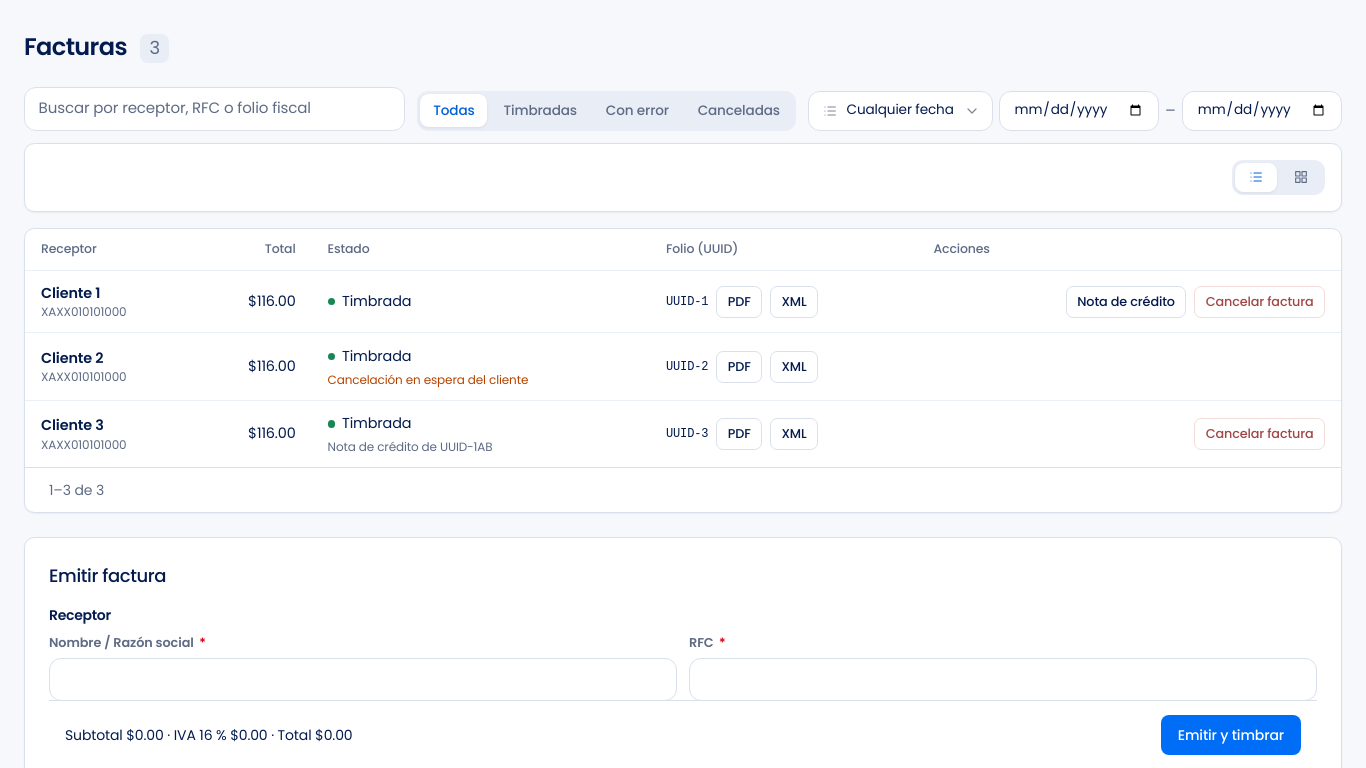
Test: cancelar, sustituir y notas de crédito (ADR 0180) › cada factura se cancela o se acredita y dice cómo va su cancelación
Expected: the text "Cancelación en espera del cliente" is shown, [328,371,528,388]
Expected: the text "Nota de crédito de UUID-1AB" is shown, [328,438,492,455]
Cancelar: se elige el motivo y, si espera al cliente, se dice.
Click the button "Cancelar factura" in the row of "Cliente 1".
click(1260, 302)  # box [1194,286,1325,318]
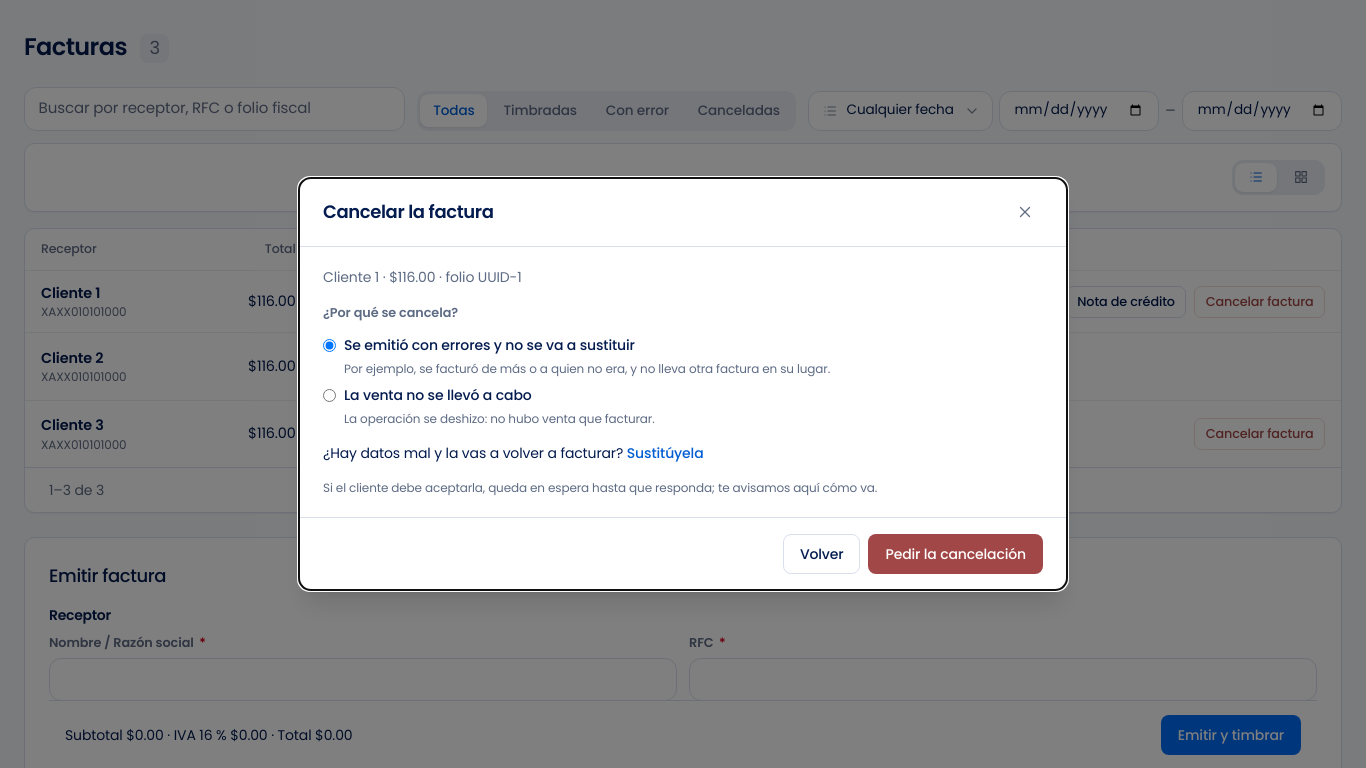
Click the 2nd radio button.
click(330, 396)  # box [323,389,336,402]
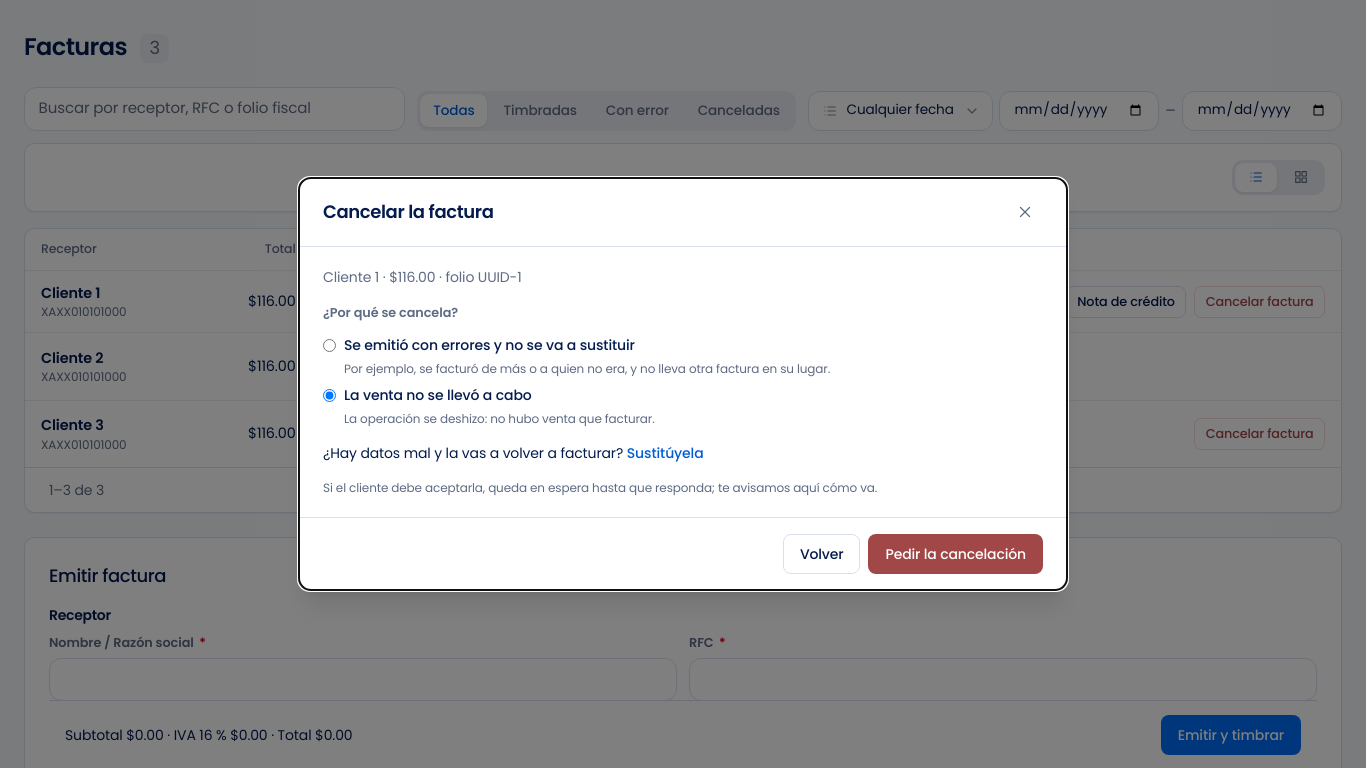
Submit the form with id "form-cancelar-factura", box [323,304,877,496]
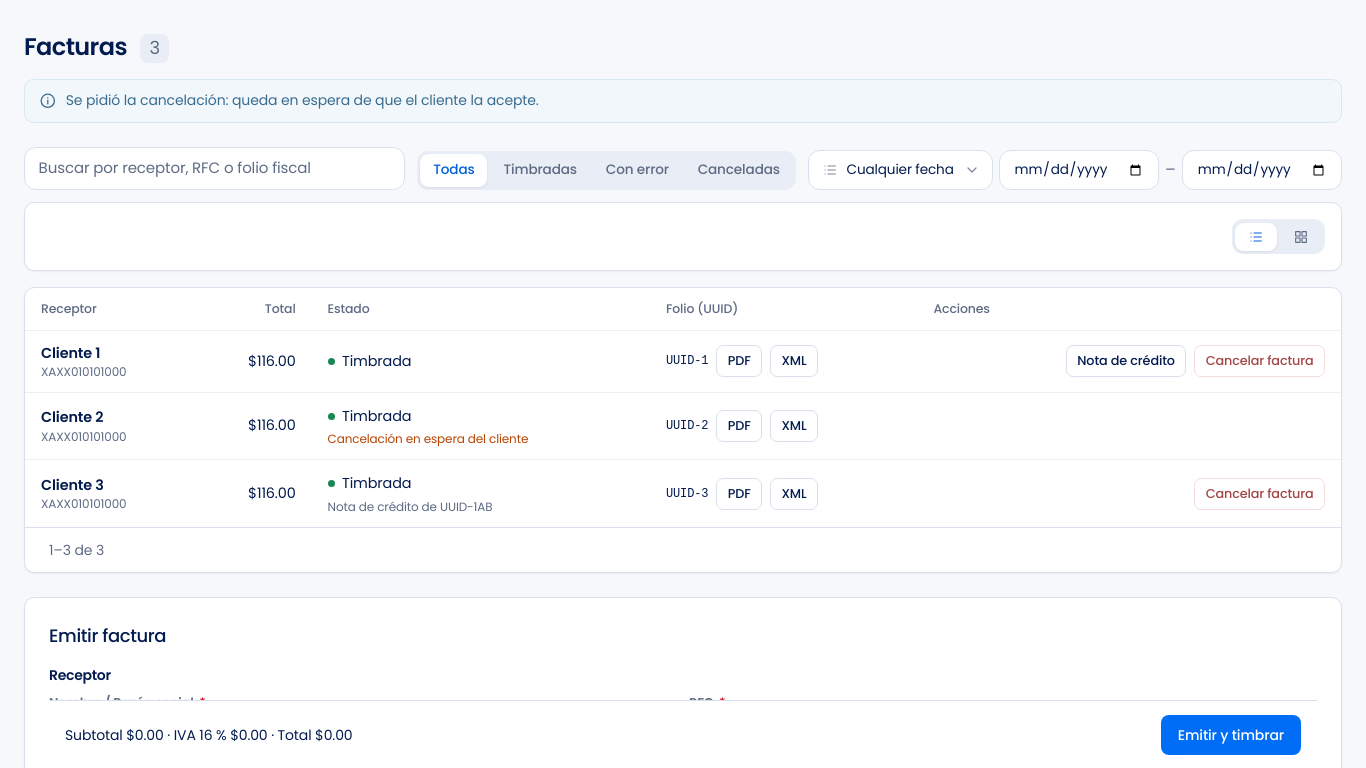
Now the message "Se pidió la cancelación: queda en espera de que el cliente la acepte." is shown, box [24,79,1342,123]
